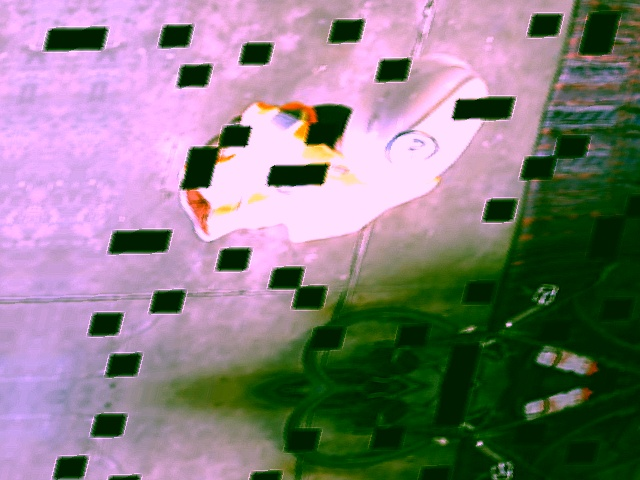three: (381, 130, 443, 169)
